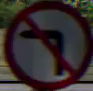Don't turn left: (12, 12, 79, 80)
